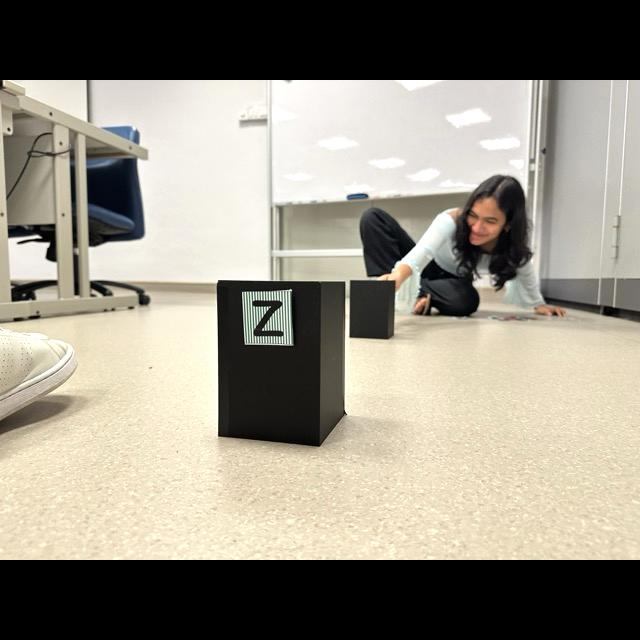Z: (252, 299, 283, 336)
